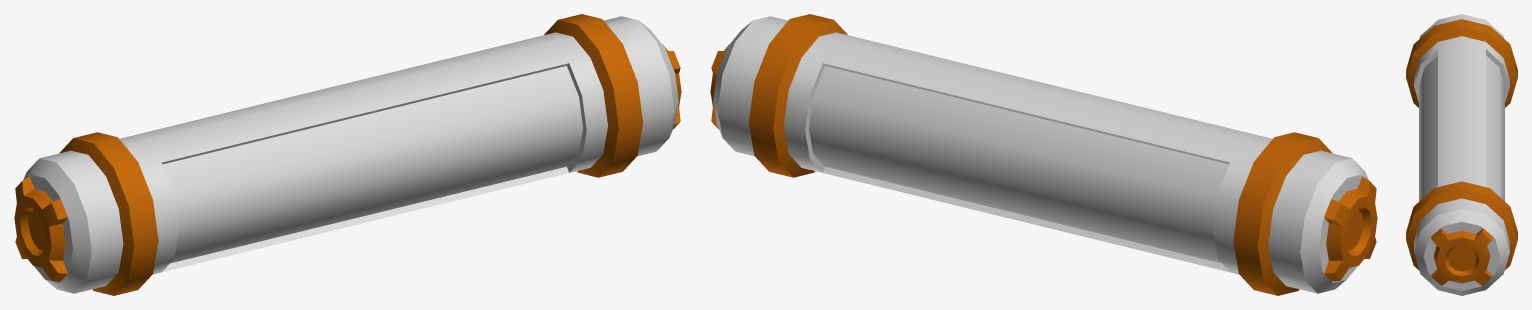
The model's file is Container.fbx.
3 renders of one model, left to right at view 1: azimuth 30°, elevation 25°; view 2: azimuth 150°, elevation 25°; view 3: azimuth 270°, elevation 25°, orthographic. The views are drawn at different scales.
Visible parts, largest first — view 1: pCylinder21; view 2: pCylinder21; view 3: pCylinder21.
Part boxes in pixels (x1,y1,x2,y2): pCylinder21: (14,14,681,295); pCylinder21: (710,14,1377,295); pCylinder21: (1406,14,1517,295).
Bounding box in the file's own units: 104 × 23.31 × 23.31.
